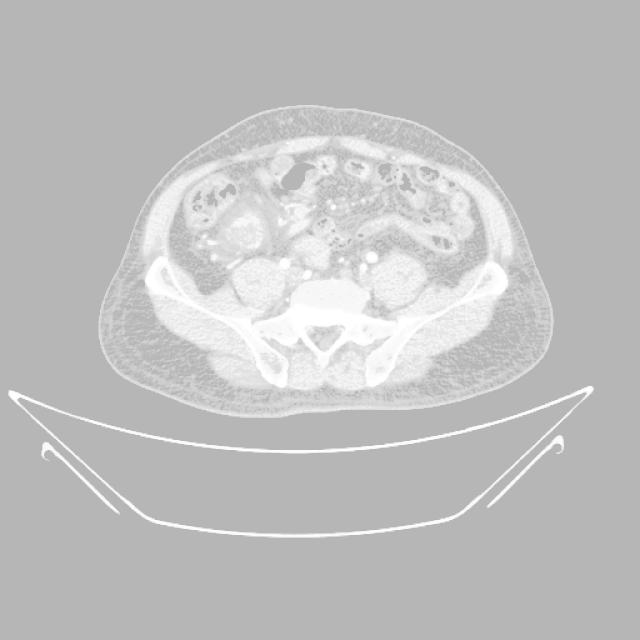TUMOR: (204, 222, 510, 304)
